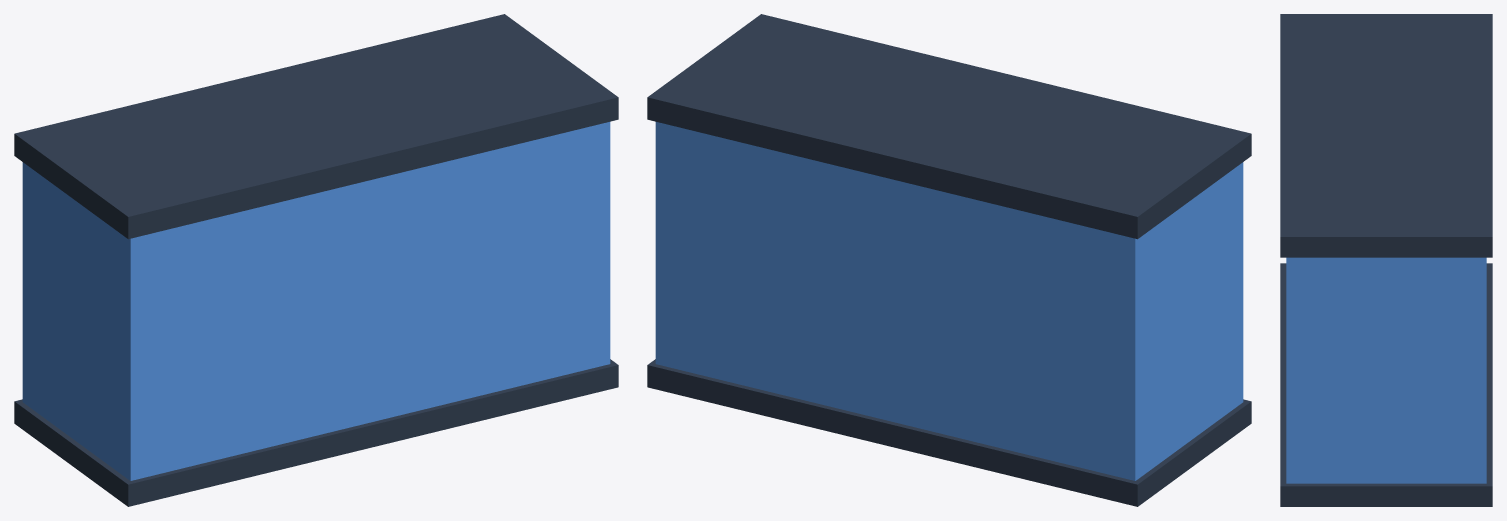
3 views of the same model, side by side, from view 1: azimuth 30°, elevation 25°; view 2: azimuth 150°, elevation 25°; view 3: azimuth 270°, elevation 25° (orthographic). The views are drawn at different scales.
Visible parts, largest first — view 1: fish-tank; view 2: fish-tank; view 3: fish-tank.
Boxes of the visible parts, left/top/right/bottom form: fish-tank: left=14, top=14, right=618, bottom=506; fish-tank: left=647, top=14, right=1251, bottom=506; fish-tank: left=1280, top=14, right=1492, bottom=506.
Size of the model in its own units: 0.92 by 0.52 by 0.37.
